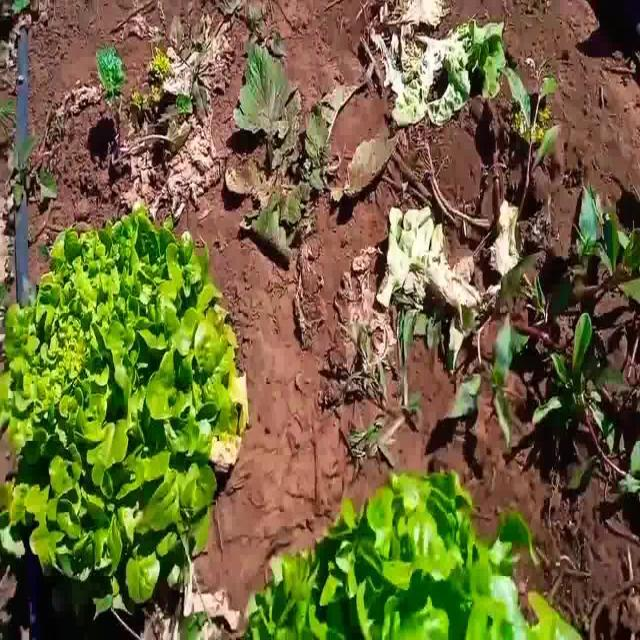Lettuce: (0, 211, 245, 623), (237, 467, 544, 640)
